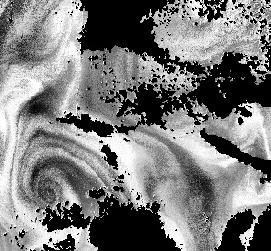CE: (13, 130, 111, 210)
